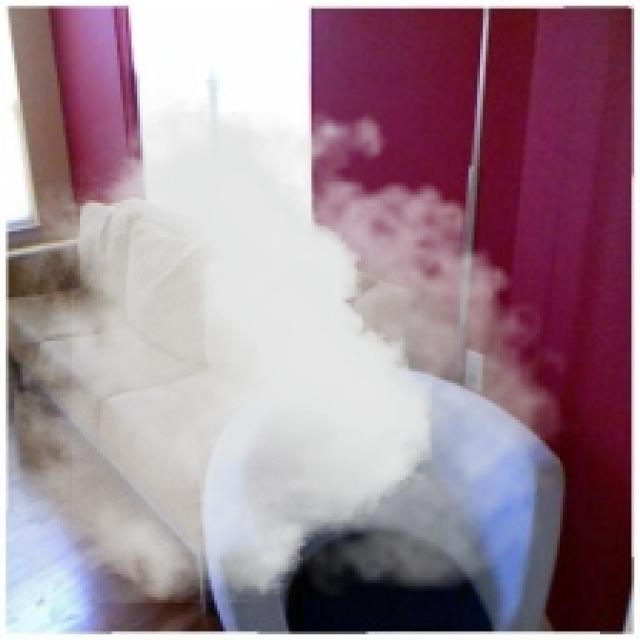smoke: (14, 80, 580, 603)
